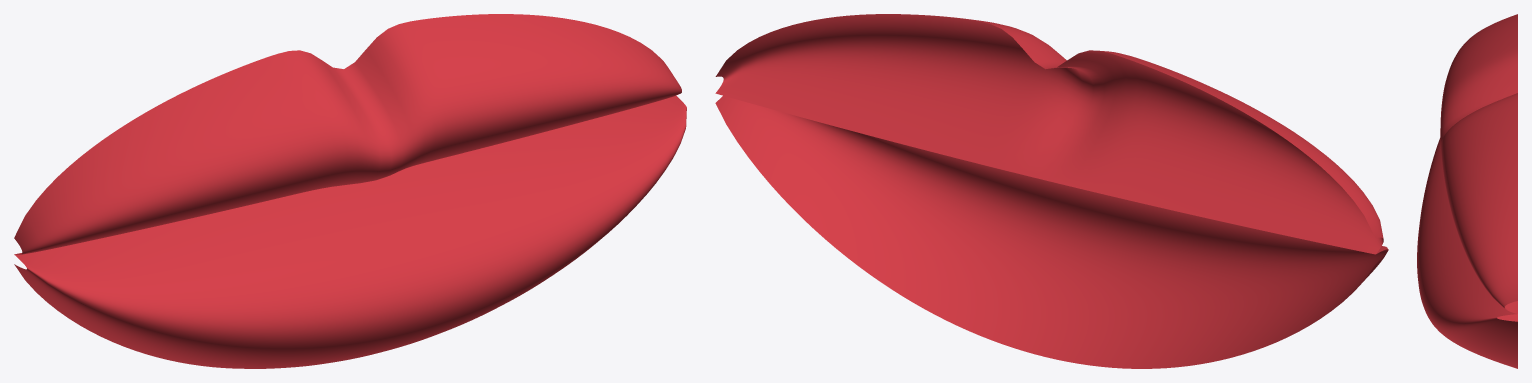
The model's file is lips1.dae.
The picture shows the model from 3 angles, left to right: view 1: azimuth 30°, elevation 25°; view 2: azimuth 150°, elevation 25°; view 3: azimuth 270°, elevation 25°; orthographic projection. The views are drawn at different scales.
Parts seen in each view (by area): view 1: Lips; view 2: Lips; view 3: Lips.
Boxes of the visible parts, x1,y1,x2,y2 form: Lips: [14, 14, 686, 368]; Lips: [715, 14, 1388, 368]; Lips: [1417, 14, 1517, 368].
Bounding box in the file's own units: 1.58 × 0.7325 × 0.26.
